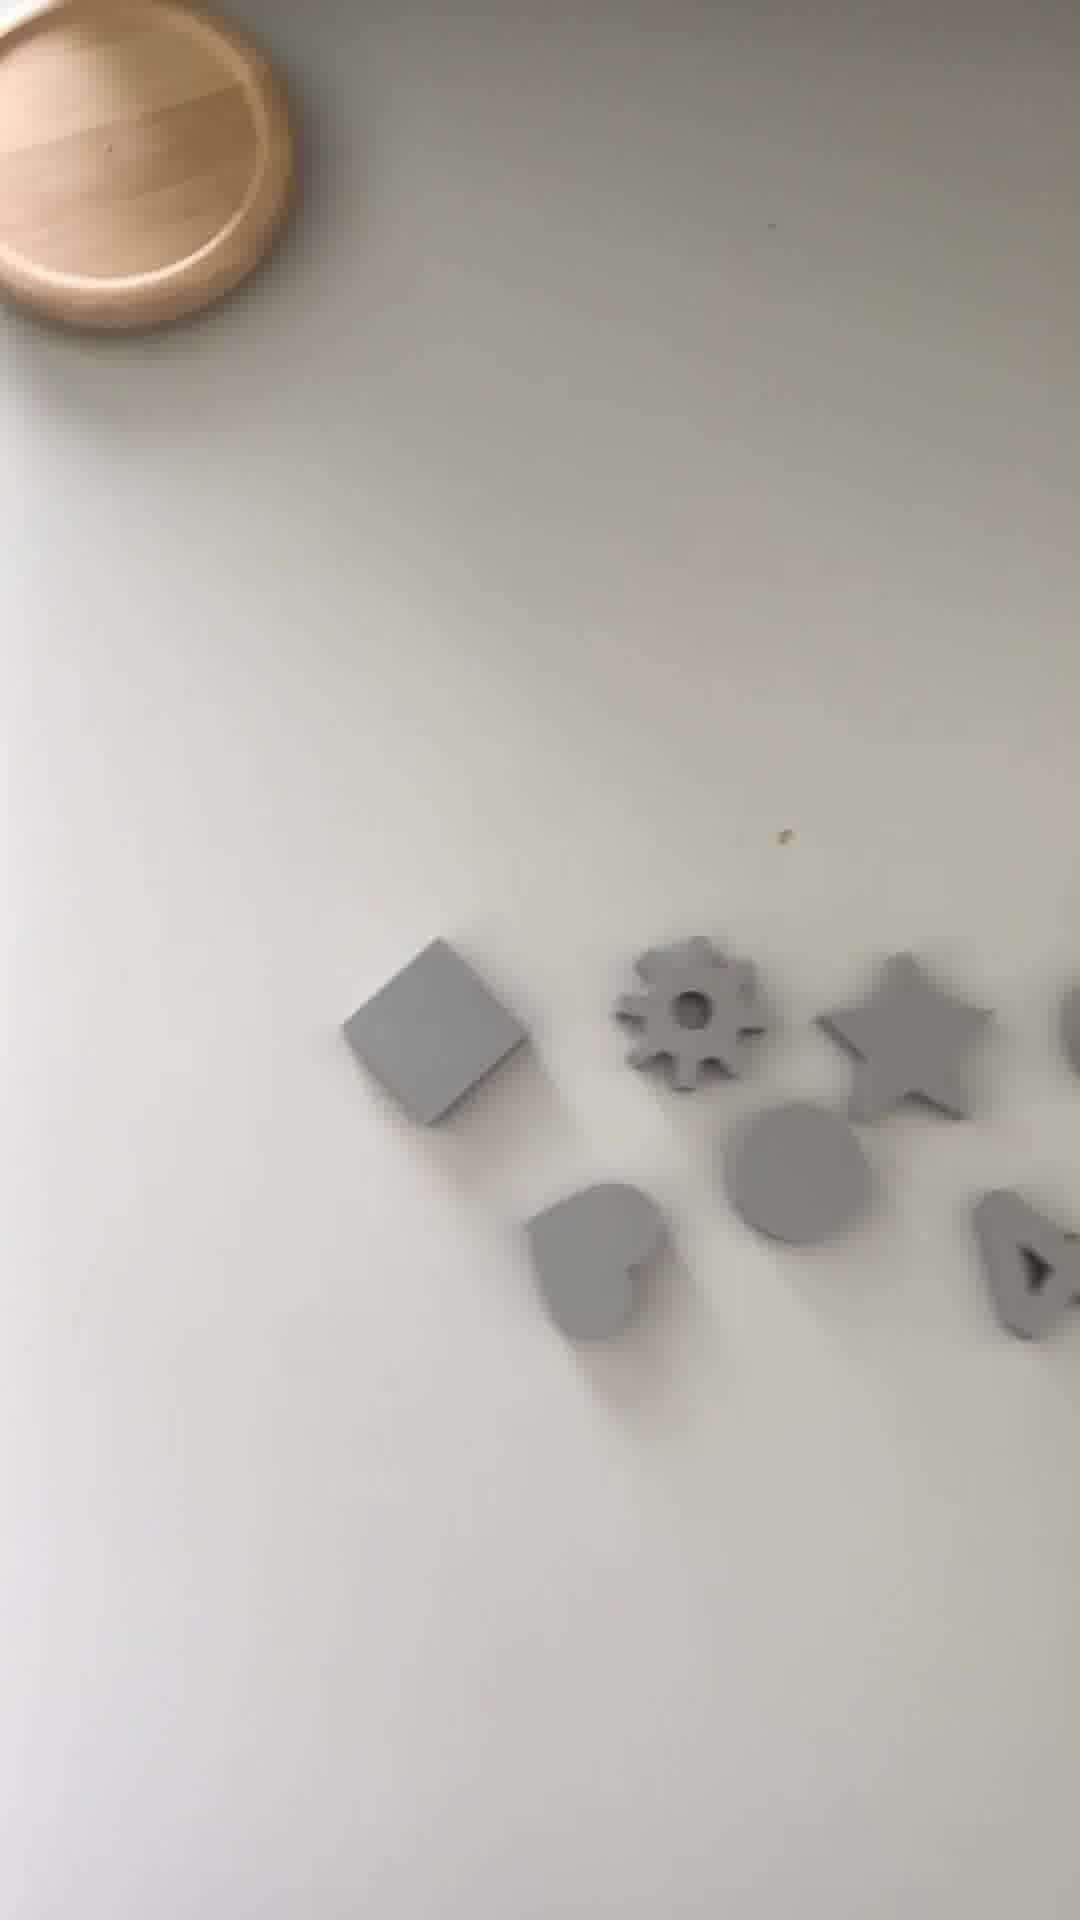Gray circle: (723, 1098, 864, 1244)
Gray four: (956, 1193, 1080, 1357)
Gray gear: (626, 932, 762, 1091)
Gray heart: (525, 1174, 655, 1338)
Gray square: (342, 930, 543, 1139)
Gray star: (819, 965, 990, 1131)
